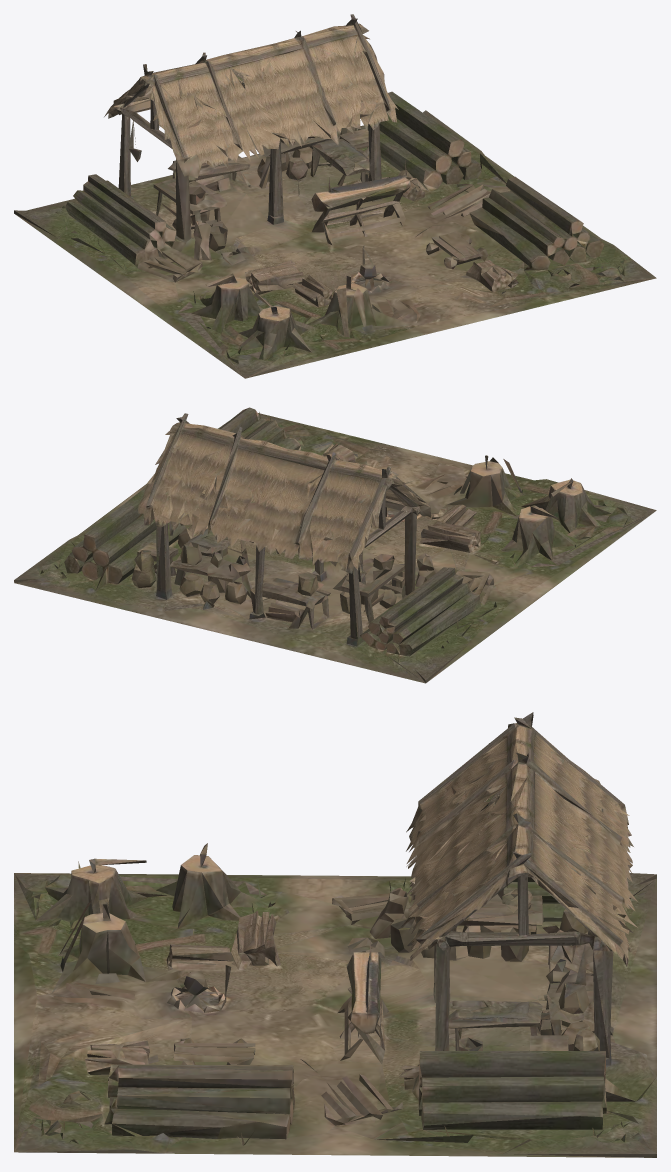
Rendered from lumber-camp.glb.
3 renders of one model, top to bottom at view 1: azimuth 30°, elevation 25°; view 2: azimuth 150°, elevation 25°; view 3: azimuth 270°, elevation 25°, orthographic. The views are drawn at different scales.
Visible parts, largest first — view 1: output_unwrapped; view 2: output_unwrapped; view 3: output_unwrapped.
Boxes of the visible parts, x1=… form: output_unwrapped: x1=14, y1=14, x2=656, y2=378; output_unwrapped: x1=14, y1=407, x2=656, y2=683; output_unwrapped: x1=14, y1=712, x2=656, y2=1157.
Bounding box in the file's own units: 1.9 × 0.715 × 1.85.
Materials: 1 (1 with a texture image).
